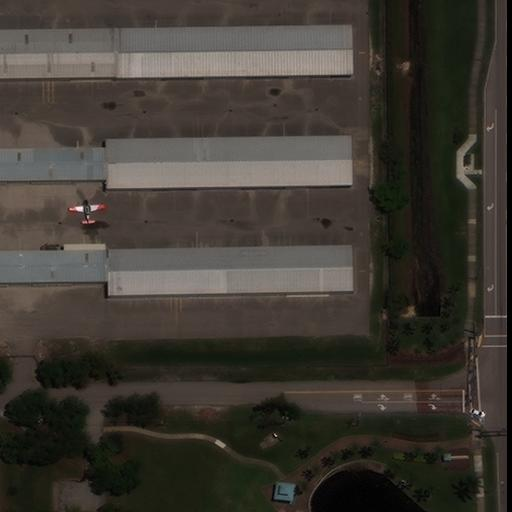Small Civil Transport: (68, 199, 102, 225)
